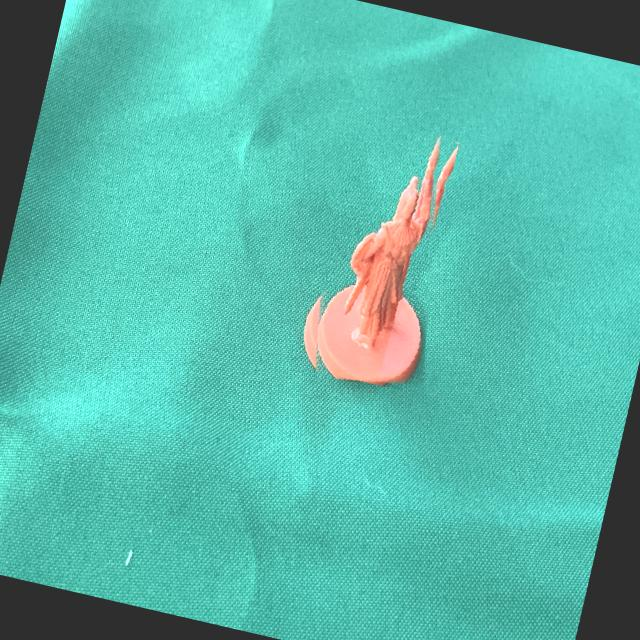amon_follower: (316, 133, 440, 383)
